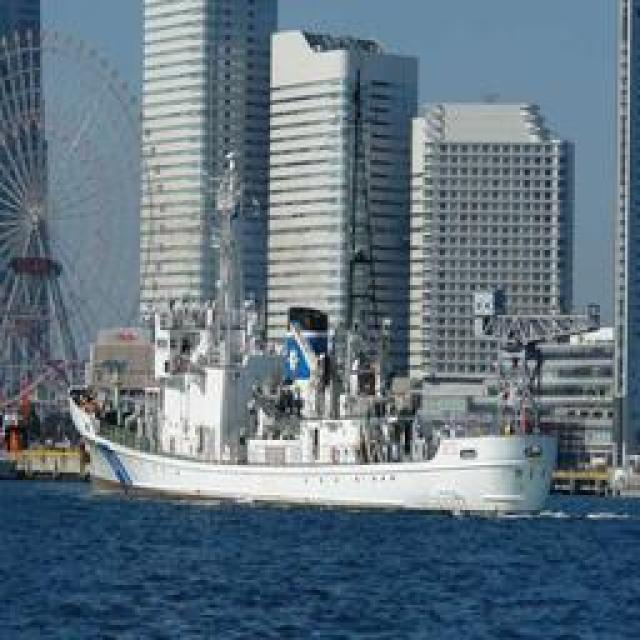CIV_Ship: (69, 396, 552, 512)
